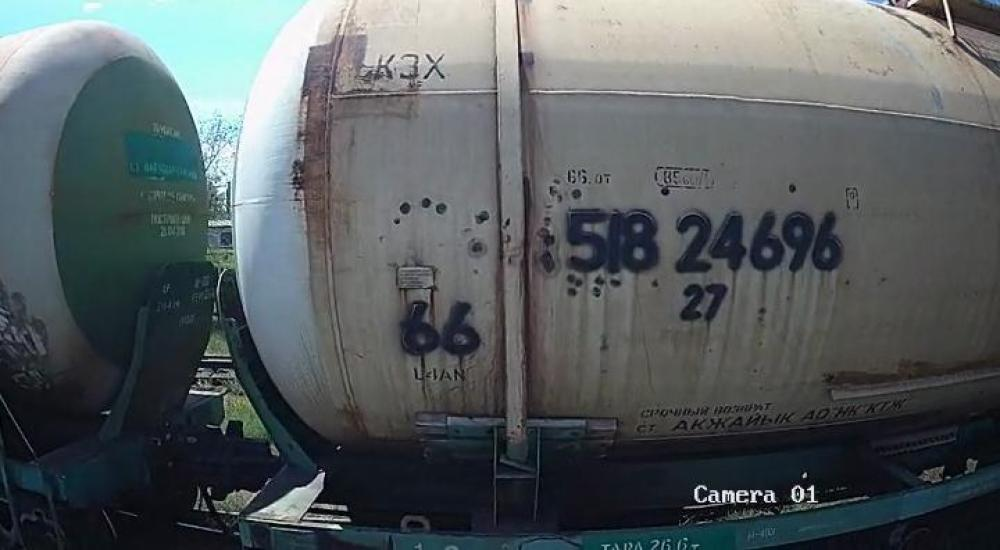Wagon-number: (560, 207, 850, 278)
